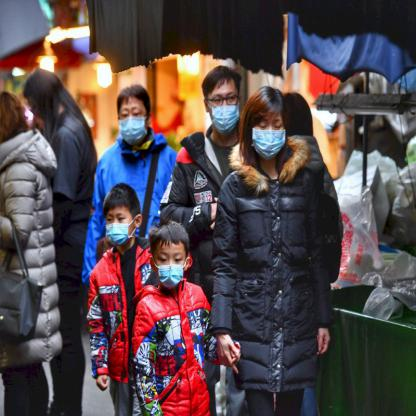Wearing_Mask: (249, 115, 287, 161), (208, 89, 239, 135), (117, 103, 147, 149), (155, 246, 185, 289), (103, 209, 129, 245)
